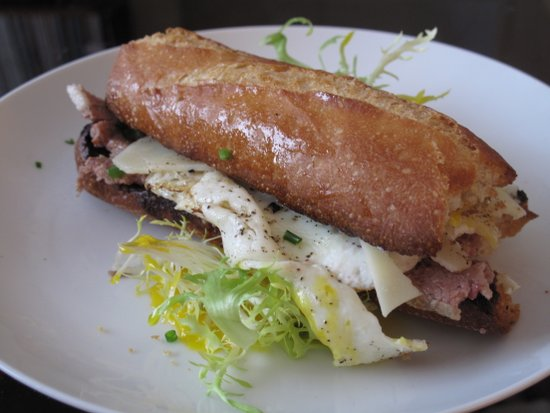slice of bread: (124, 55, 510, 207)
